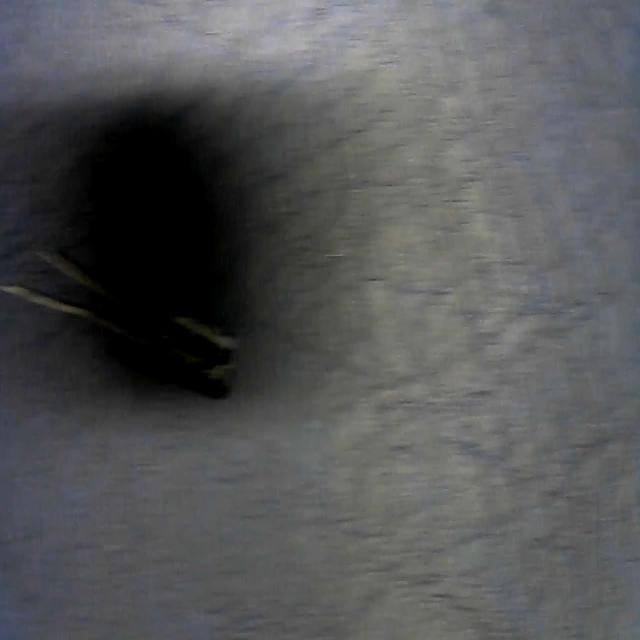capacitor: (4, 247, 234, 398)
